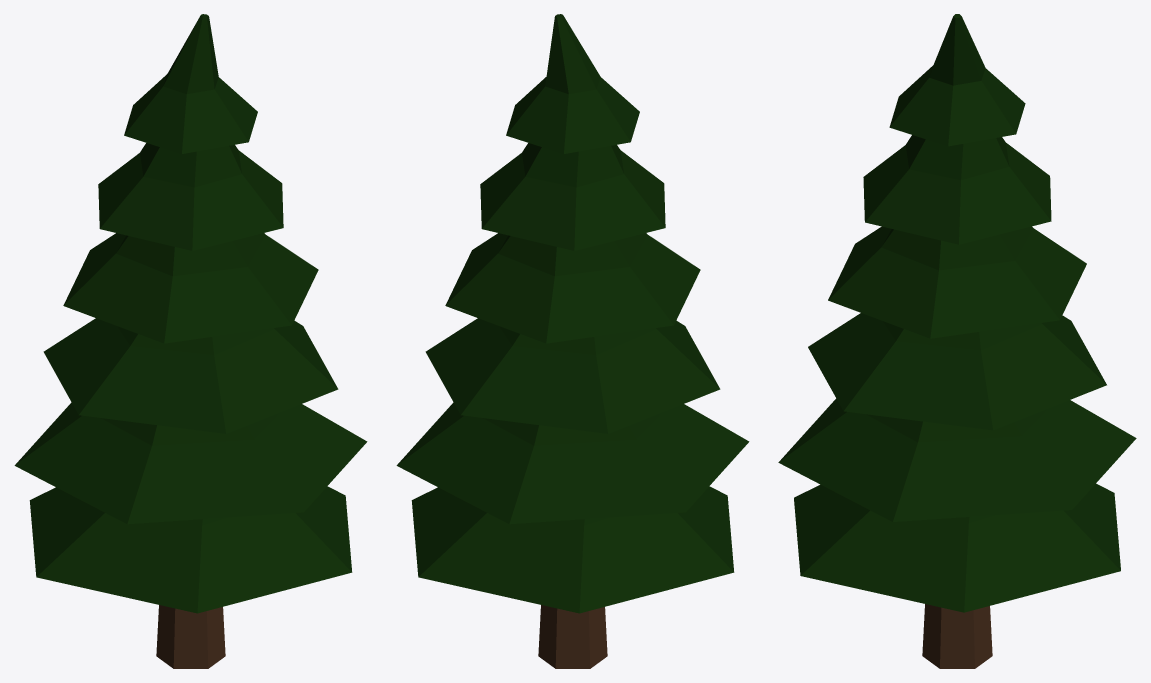
File: Conifer2.fbx
The picture shows the model from 3 angles, left to right: view 1: azimuth 30°, elevation 25°; view 2: azimuth 150°, elevation 25°; view 3: azimuth 270°, elevation 25°; orthographic projection.
Parts seen in each view (by area): view 1: Pine_Tree; view 2: Pine_Tree; view 3: Pine_Tree.
Boxes of the visible parts, bbox=[...] form: Pine_Tree: bbox=[14, 14, 367, 668]; Pine_Tree: bbox=[396, 14, 749, 668]; Pine_Tree: bbox=[778, 14, 1136, 668].
Size of the model in its own units: 214 by 414 by 207.
